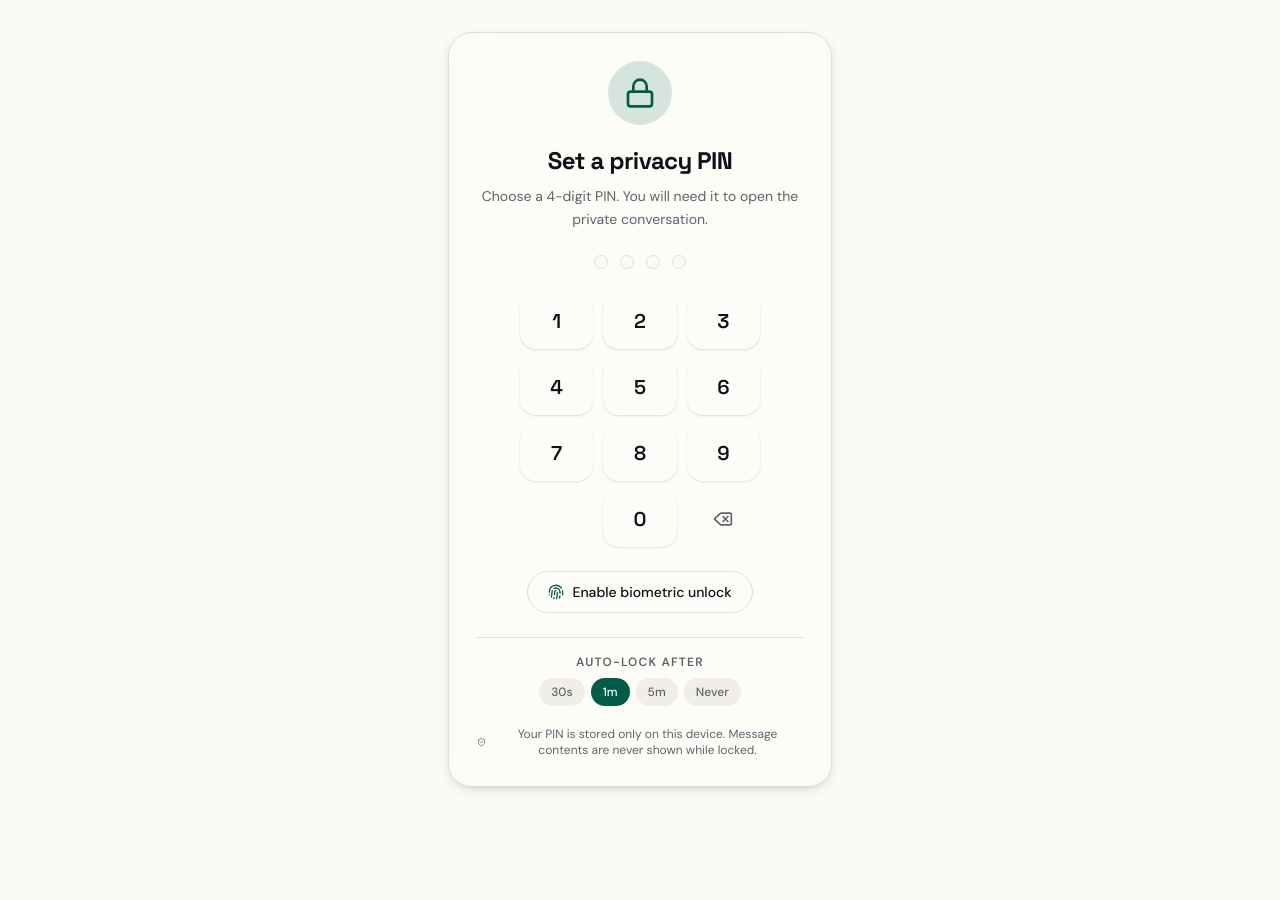
Conversation thread › renders an own message with status and timestamp
The width and height of the screenshot is (1280, 900).
Expected: the heading "Set a privacy PIN" is shown, [548,145,732,176]
What coordinates should you click on to do the following:
click the button "1"
I would click on:
 (557, 320)
Its box is [520,292,593,348].
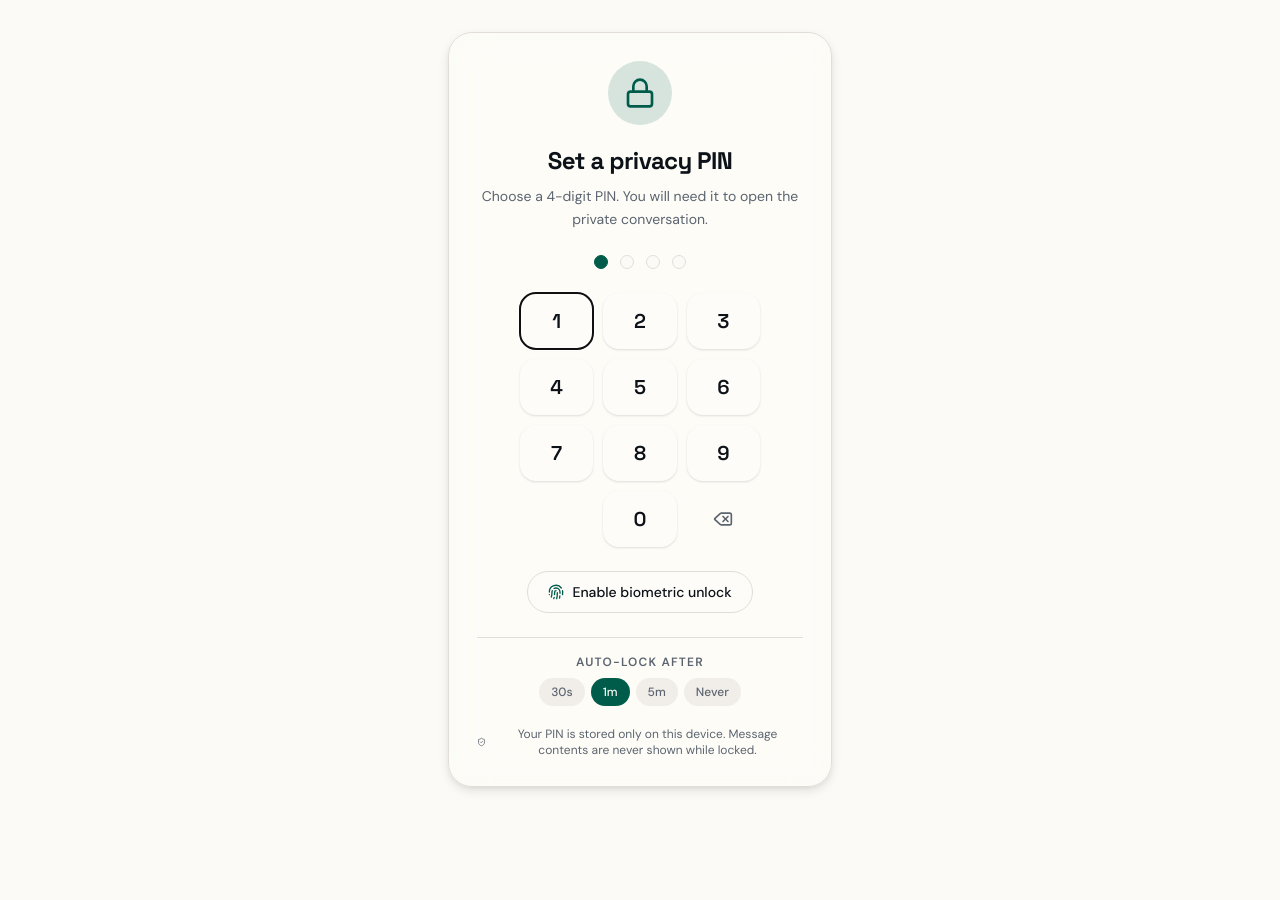
What coordinates should you click on to do the following:
click the button "2"
I would click on:
 (640, 320)
Its box is [603,292,677,348].
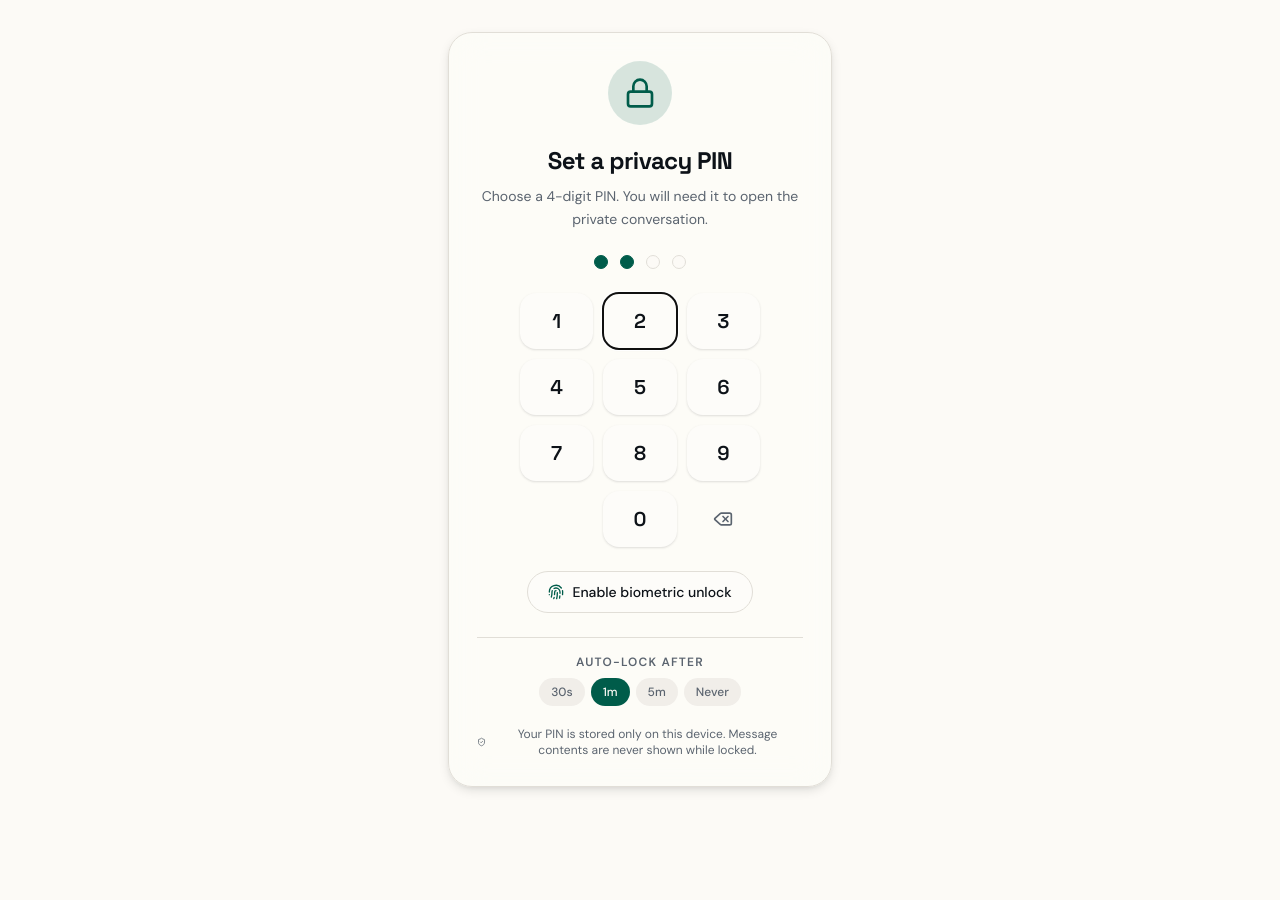
What coordinates should you click on to do the following:
click the button "3"
I would click on:
 (723, 320)
Its box is [687,292,760,348].
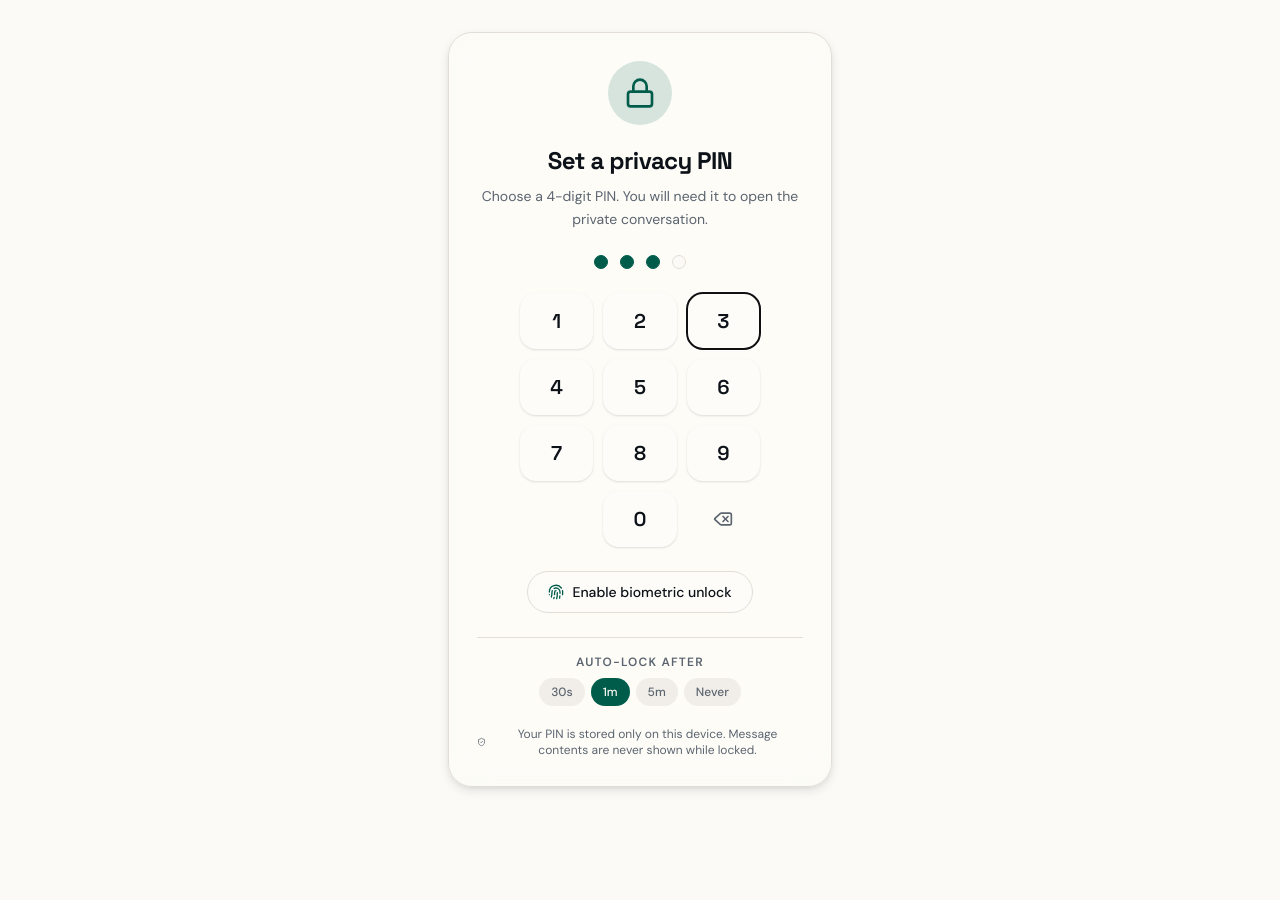
What coordinates should you click on to do the following:
click the button "4"
I would click on:
 (557, 386)
Its box is [520,358,593,414].
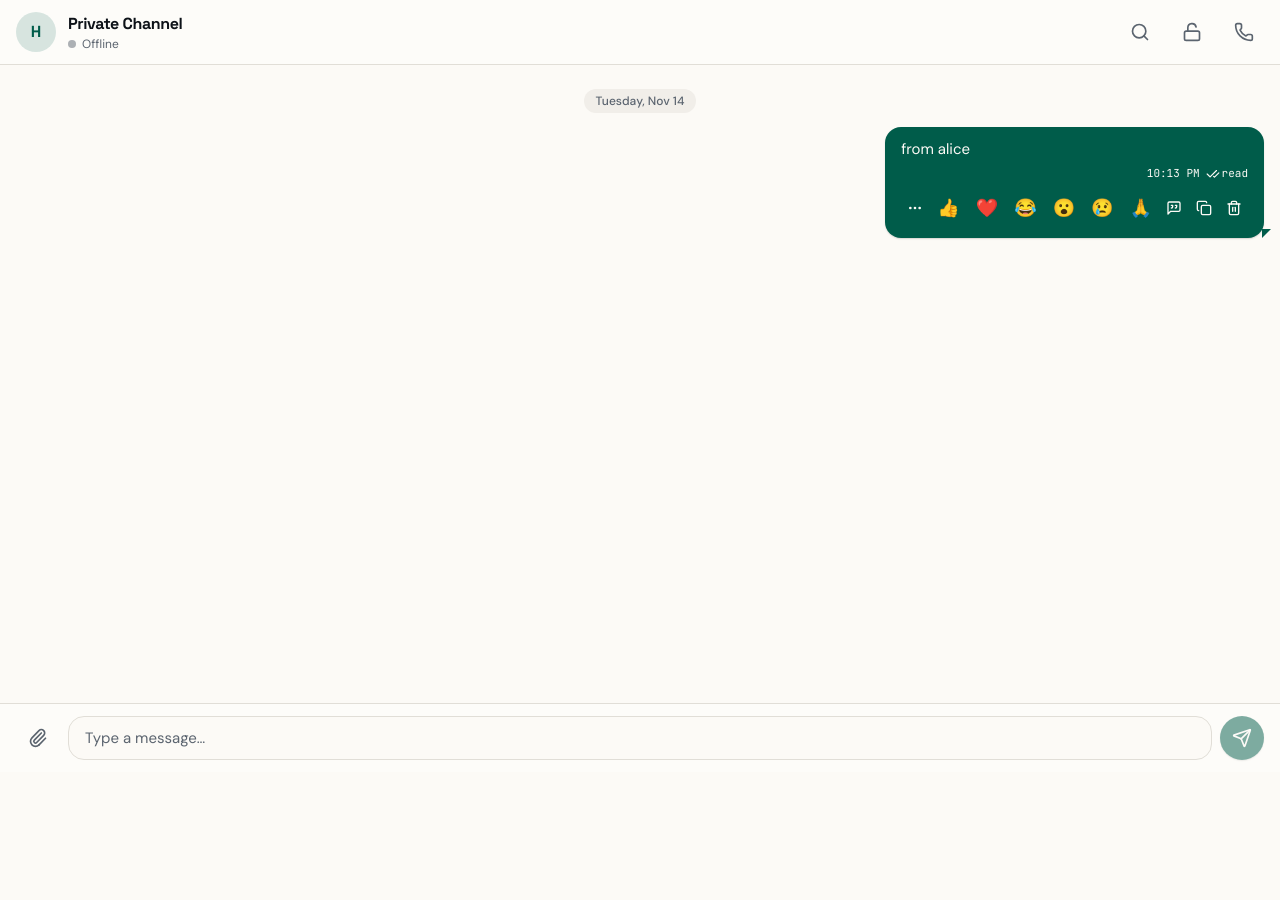
Expected: the text box with placeholder "Type a message…" is shown, [68,716,1212,760]
Expected: the text "from alice" is shown, [901,139,970,159]
Expected: the text "read" is shown, [1222,165,1248,182]
